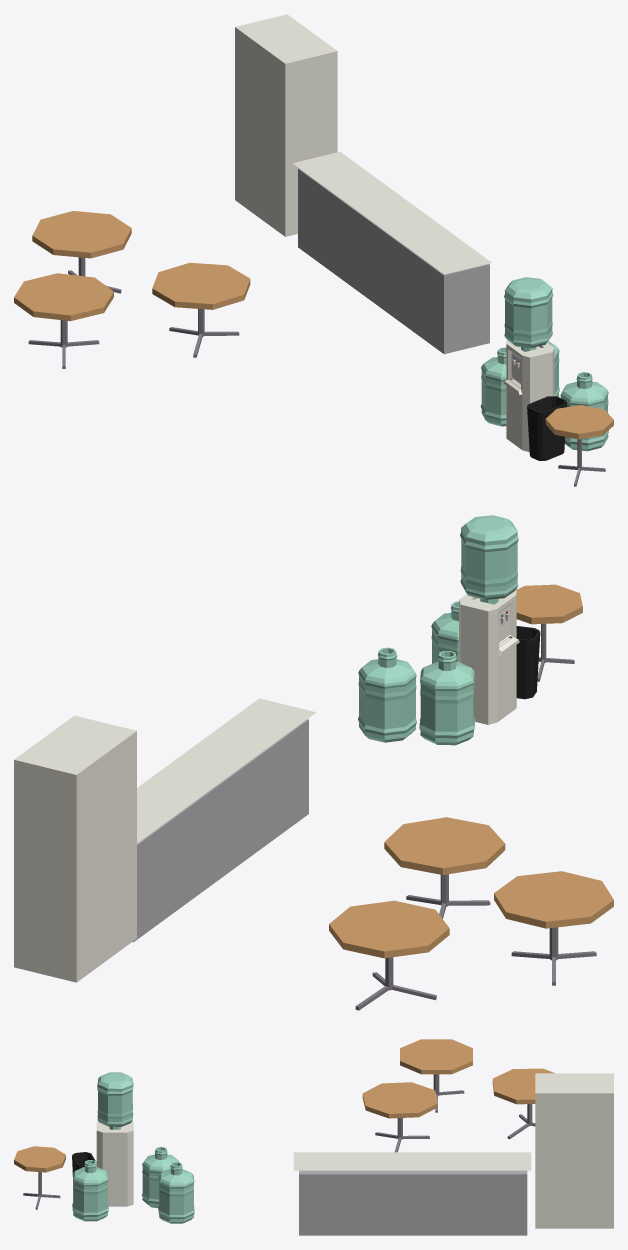
File: break_room.glb
3 renders of one model, top to bottom at view 1: azimuth 30°, elevation 25°; view 2: azimuth 150°, elevation 25°; view 3: azimuth 270°, elevation 25°, orthographic. The views are drawn at different scales.
Visible parts, largest first — view 1: Fridge.001; view 2: Fridge.001; view 3: Fridge.001.
Part boxes in pixels (x1,y1,x2,y2): Fridge.001: (14, 14, 613, 486); Fridge.001: (14, 515, 613, 1010); Fridge.001: (14, 1039, 613, 1235).
Size of the model in its own units: 4.84 by 2.22 by 8.51.
Materials: 1 (1 with a texture image).
